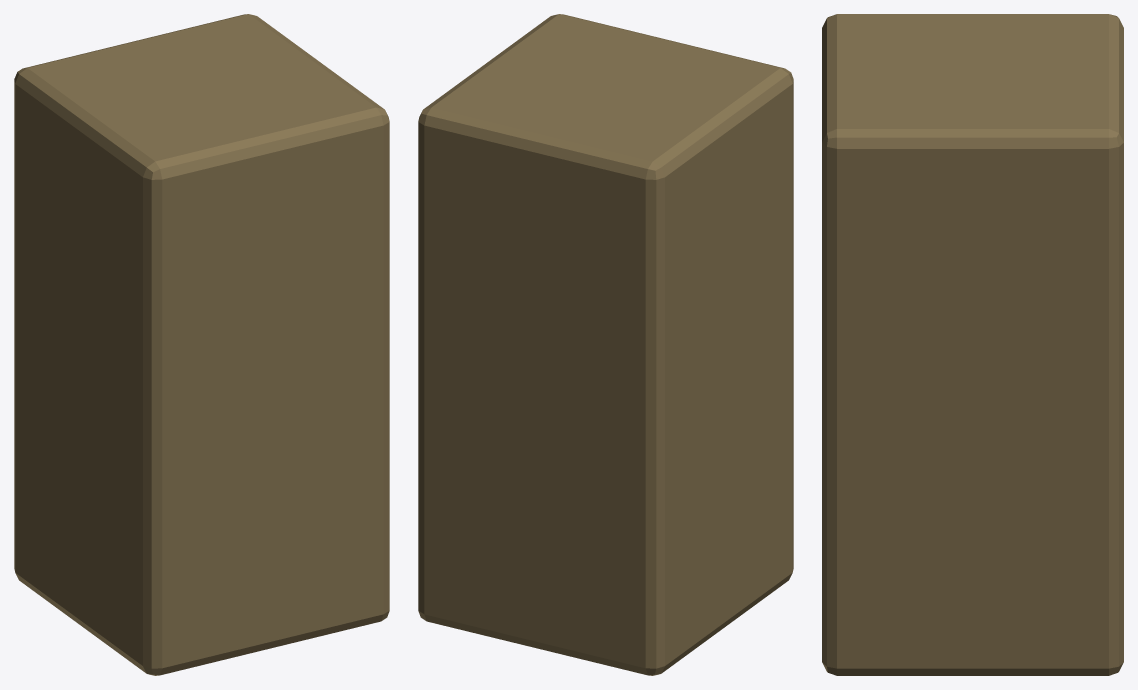
The model's file is SM_Platform_1m_01_D.fbx.
The picture shows the model from 3 angles, left to right: view 1: azimuth 30°, elevation 25°; view 2: azimuth 150°, elevation 25°; view 3: azimuth 270°, elevation 25°; orthographic projection. The views are drawn at different scales.
Parts seen in each view (by area): view 1: polySurface70; view 2: polySurface70; view 3: polySurface70.
Part boxes in pixels (x1,y1,x2,y2): polySurface70: [14, 14, 389, 675]; polySurface70: [418, 14, 793, 675]; polySurface70: [822, 14, 1123, 675].
Bounding box in the file's own units: 100 × 200 × 100.
